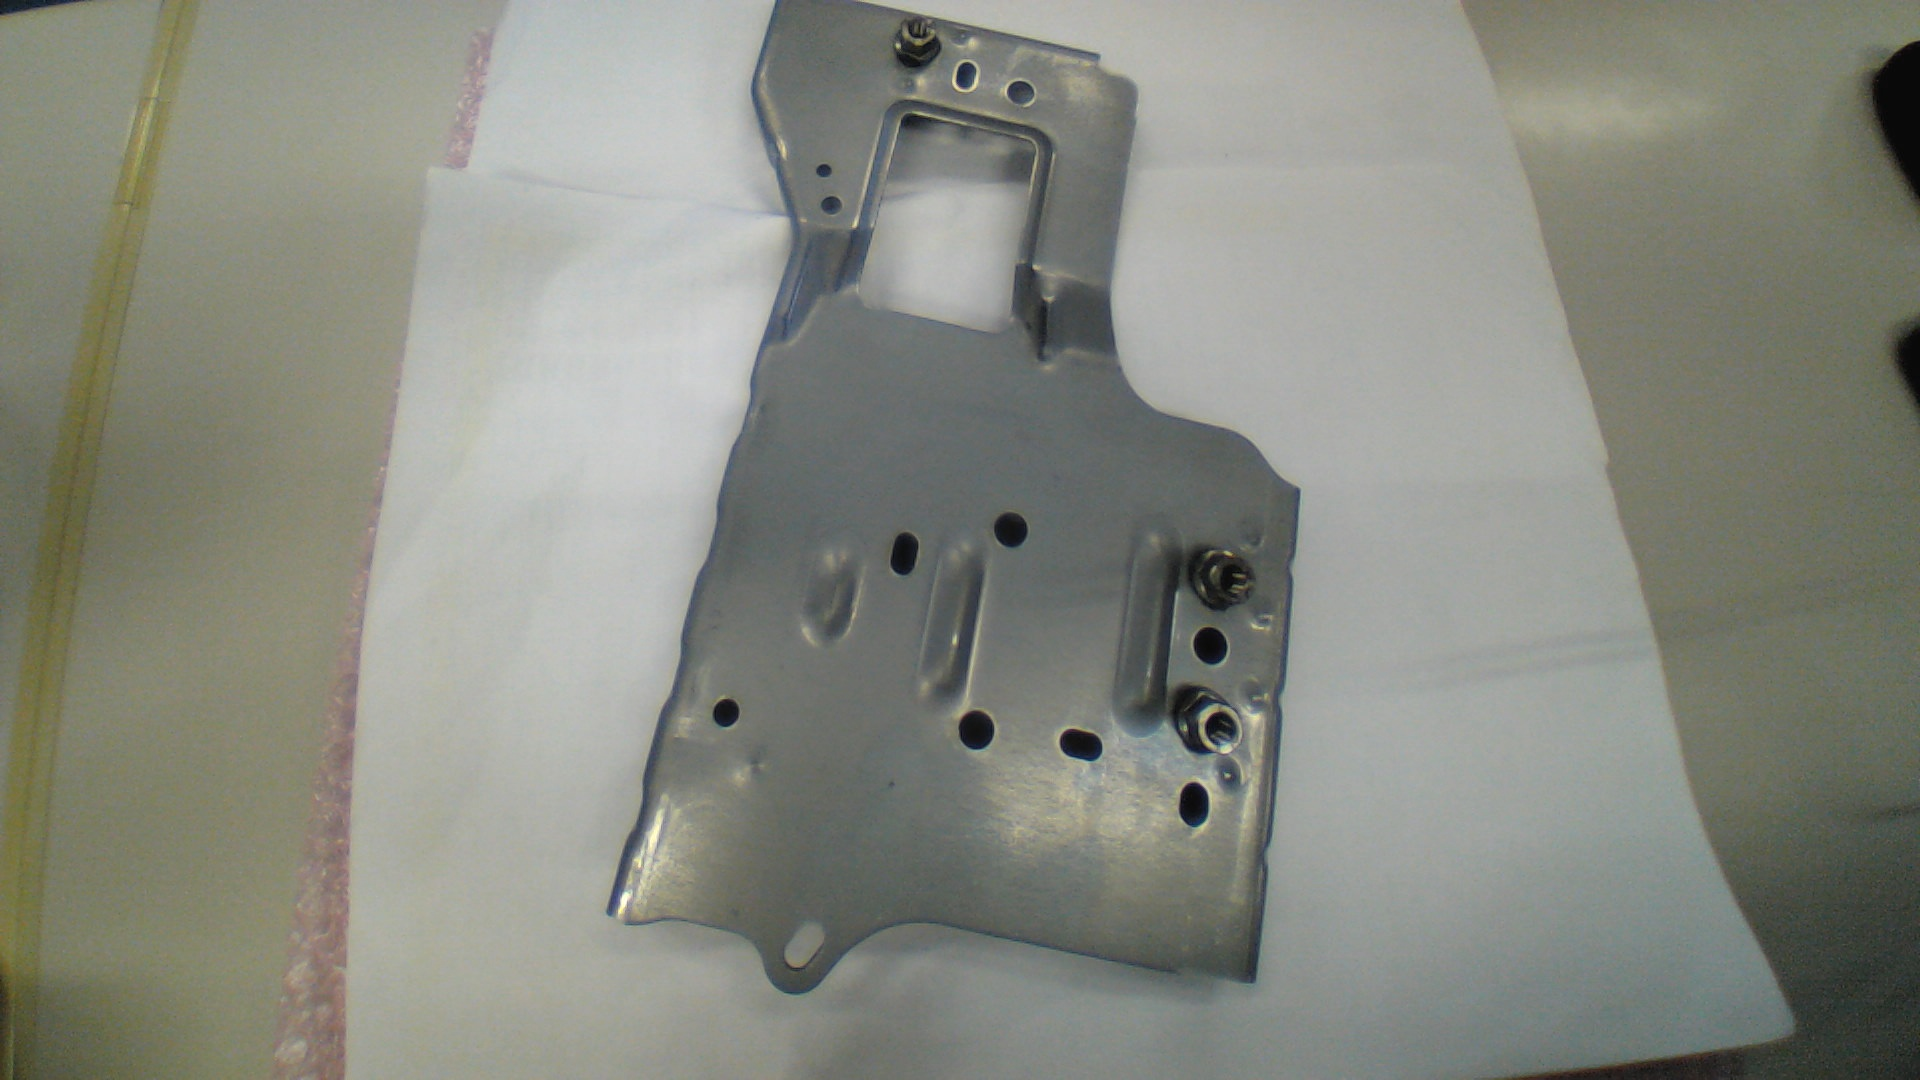dog: (1170, 686, 1245, 754), (1188, 545, 1255, 611), (895, 15, 944, 71)
